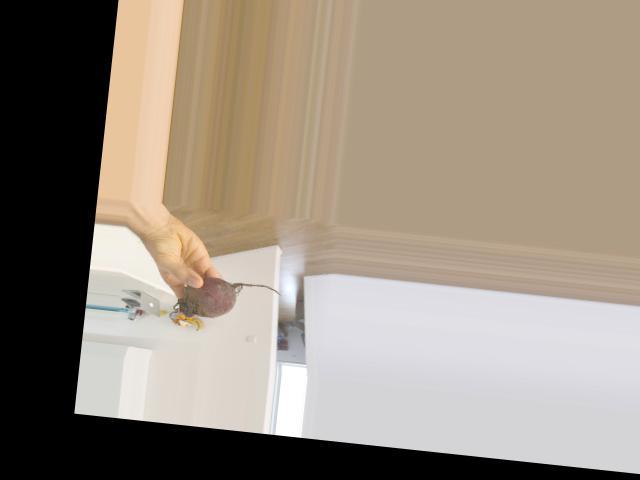beet: (173, 273, 282, 325)
